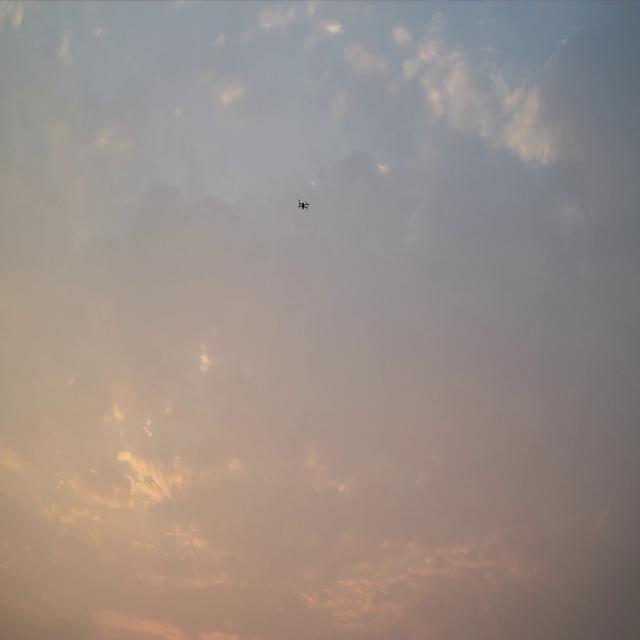drone: (297, 197, 310, 211)
